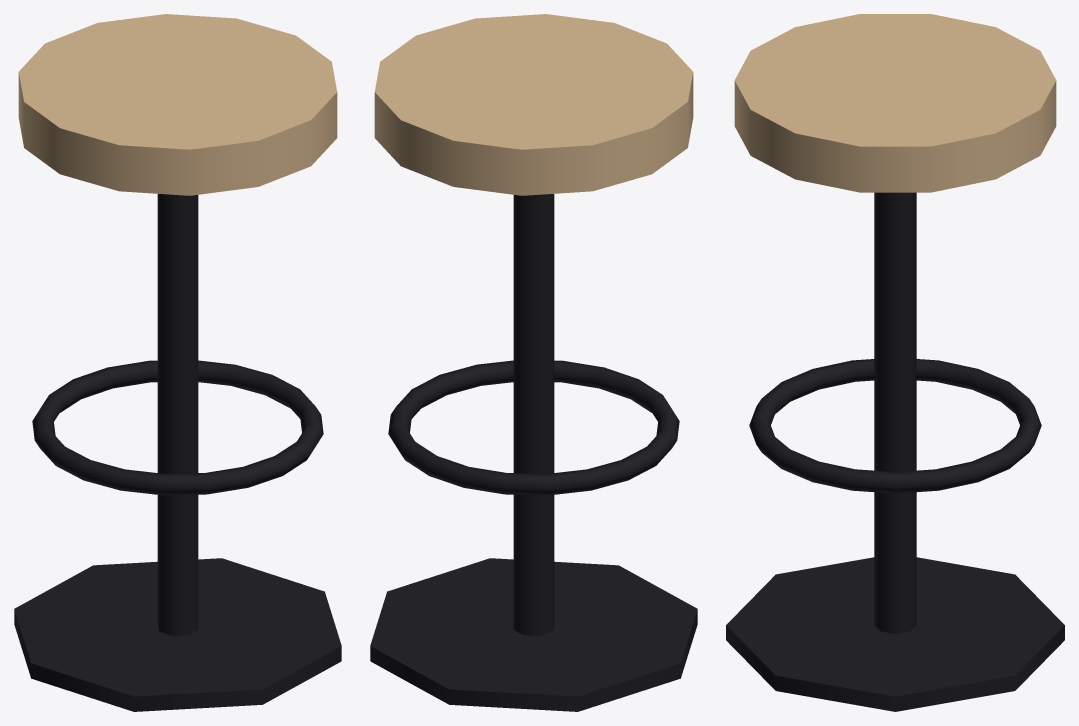
The model's file is banqueta.glb.
The picture shows the model from 3 angles, left to right: view 1: azimuth 30°, elevation 25°; view 2: azimuth 150°, elevation 25°; view 3: azimuth 270°, elevation 25°; orthographic projection.
Parts seen in each view (by area): view 1: banqueta_malha; view 2: banqueta_malha; view 3: banqueta_malha.
Part boxes in pixels (x1,y1,x2,y2): banqueta_malha: (14,14,341,711); banqueta_malha: (370,14,697,711); banqueta_malha: (726,14,1064,711).
Size of the model in its own units: 0.4 by 0.73 by 0.4.
